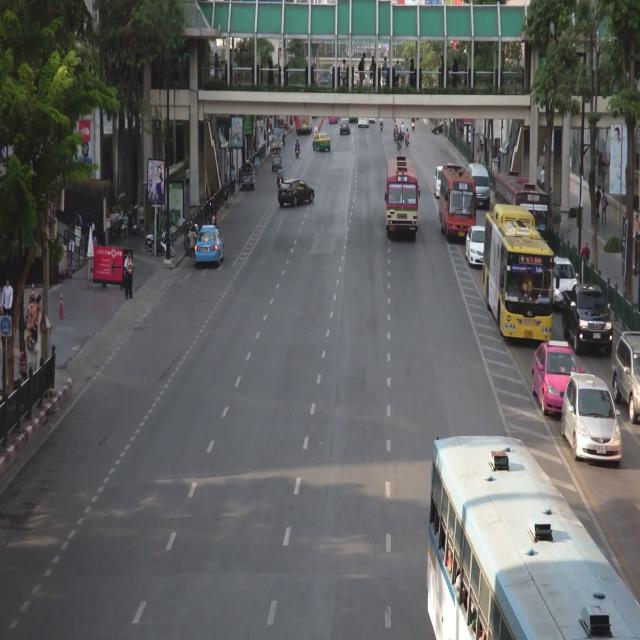bus: (429, 433, 640, 640), (485, 205, 551, 343), (497, 176, 549, 249), (441, 168, 476, 242), (387, 159, 417, 238), (295, 117, 311, 132)
car: (562, 373, 621, 465), (563, 285, 613, 355), (614, 330, 640, 422), (552, 255, 578, 307), (470, 164, 490, 208), (279, 180, 315, 204), (466, 225, 485, 265), (241, 163, 254, 190), (273, 147, 283, 169), (340, 119, 350, 135), (358, 117, 368, 127)
pedestrian: (125, 252, 133, 299), (2, 279, 11, 317), (601, 189, 607, 226), (581, 240, 590, 264), (595, 185, 601, 217), (231, 165, 236, 195), (224, 174, 229, 203), (634, 212, 639, 231), (186, 166, 190, 189), (255, 154, 259, 177), (268, 130, 272, 153), (541, 166, 545, 184), (92, 233, 97, 247), (282, 130, 285, 147), (261, 119, 264, 134), (264, 127, 266, 143), (272, 132, 274, 148)
taxi: (534, 341, 582, 414), (195, 226, 224, 264), (313, 133, 330, 150)
